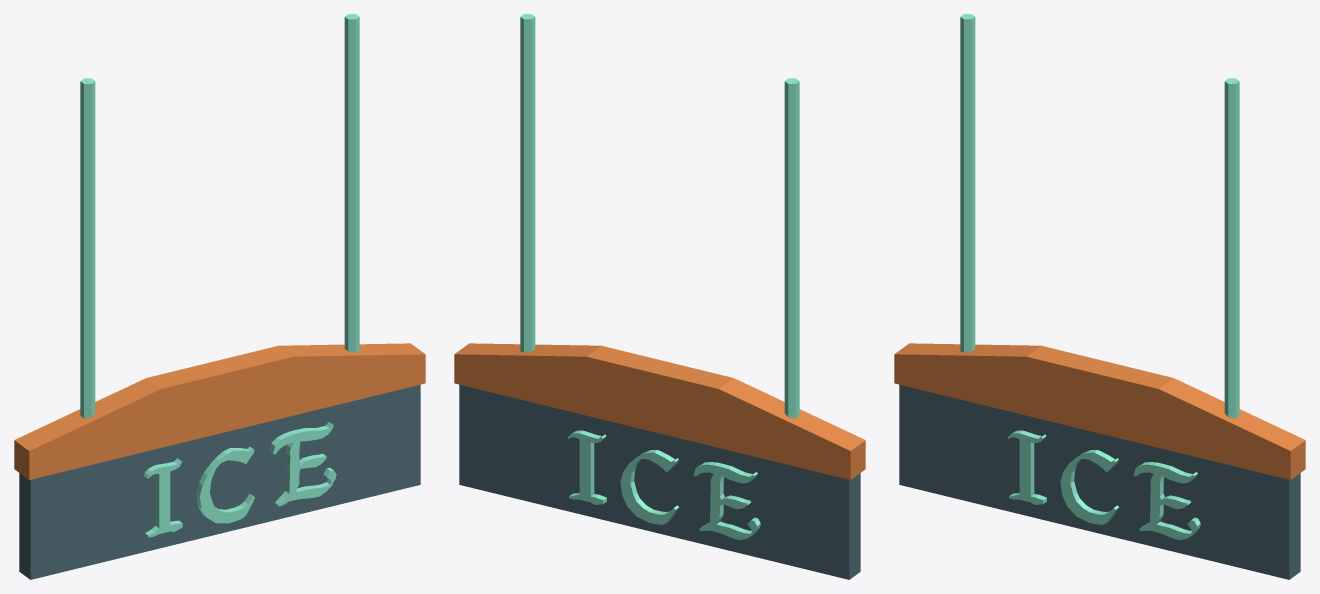
Rendered from StoreSigns.fbx_Ice.fbx.
The picture shows the model from 3 angles, left to right: view 1: azimuth 30°, elevation 25°; view 2: azimuth 150°, elevation 25°; view 3: azimuth 330°, elevation 25°; orthographic projection.
Parts seen in each view (by area): view 1: Ice; view 2: Ice; view 3: Ice.
Part boxes in pixels (box(x1,y1,x2,y2)): Ice: box(14, 14, 425, 579); Ice: box(454, 14, 865, 579); Ice: box(894, 14, 1305, 579).
Bounding box in the file's own units: 52 × 610 × 705.
